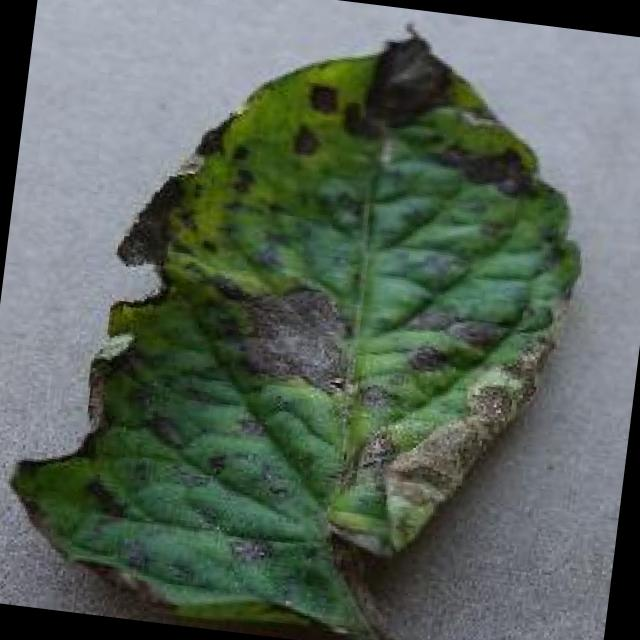Tomato_Early_Blight: (18, 0, 611, 640)
